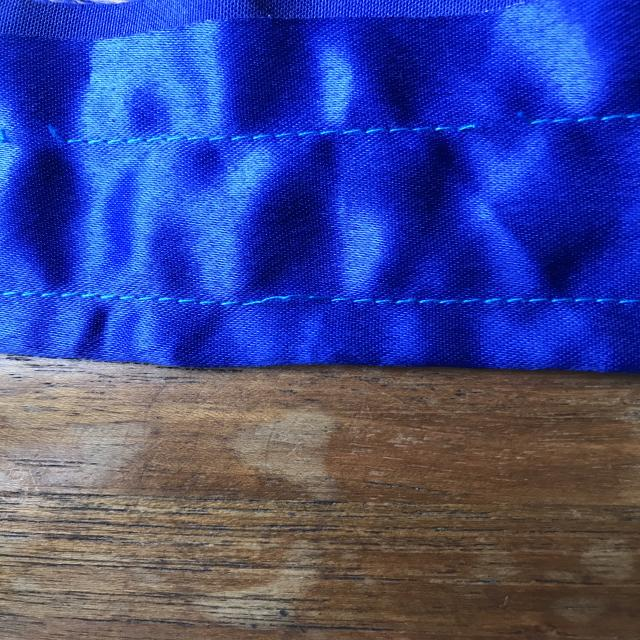broken: (437, 94, 565, 148)
skip: (219, 270, 345, 317)
